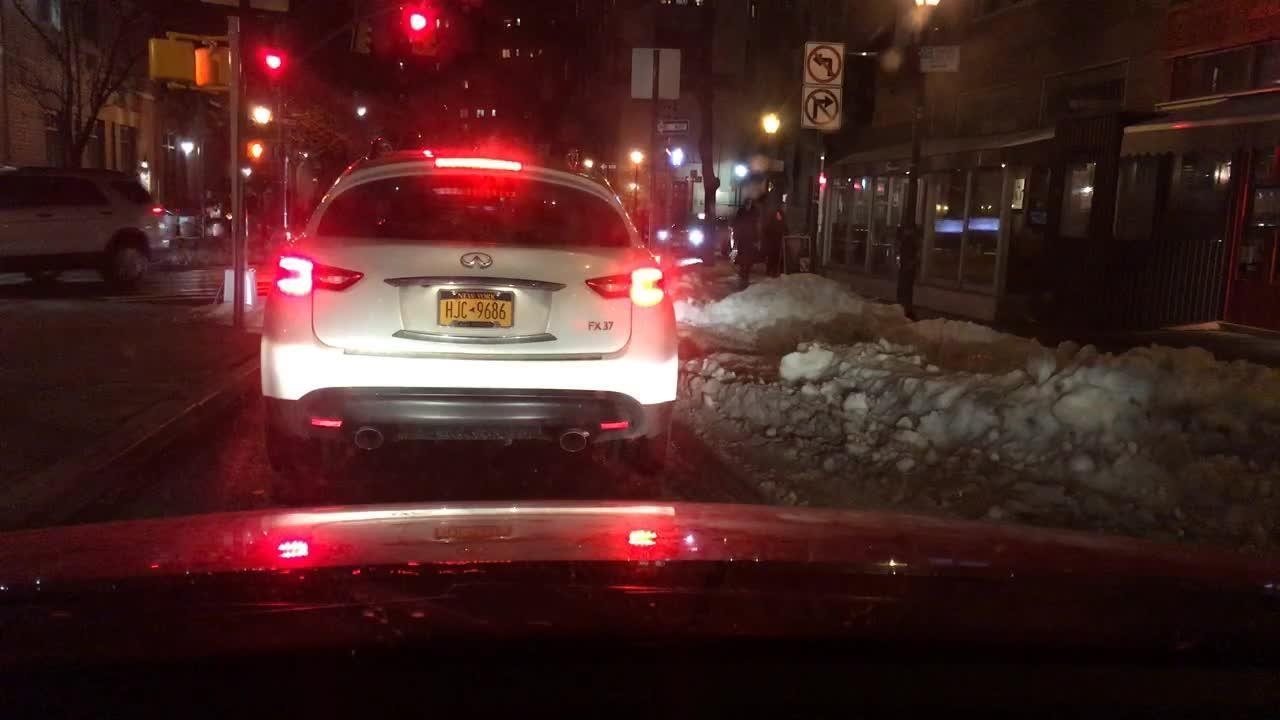Infiniti: (450, 246, 499, 281)
